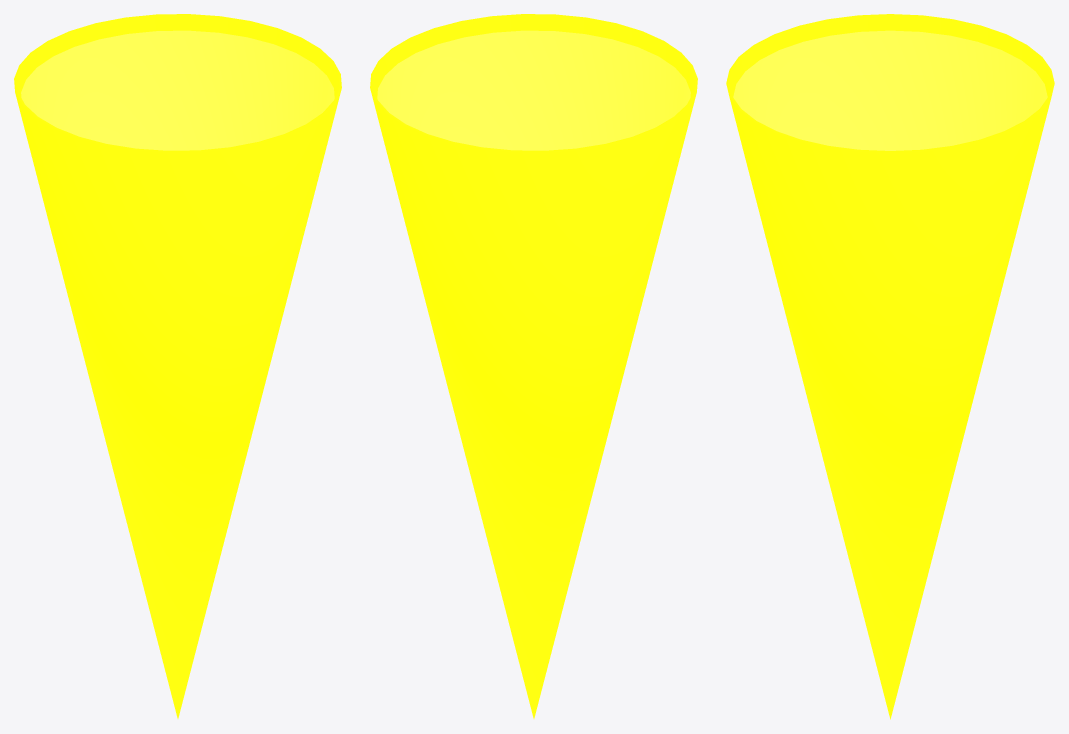
Rendered from ConeLumiere5.glb.
The picture shows the model from 3 angles, left to right: view 1: azimuth 30°, elevation 25°; view 2: azimuth 150°, elevation 25°; view 3: azimuth 270°, elevation 25°; orthographic projection.
Visible parts, largest first — view 1: Cone.001, Cone; view 2: Cone.001, Cone; view 3: Cone.001, Cone.
Boxes of the visible parts, bbox=[...] form: Cone.001: bbox=[14, 14, 341, 718]; Cone: bbox=[21, 30, 334, 150]; Cone.001: bbox=[370, 14, 697, 718]; Cone: bbox=[377, 30, 690, 150]; Cone.001: bbox=[726, 14, 1054, 719]; Cone: bbox=[733, 30, 1047, 150].
Size of the model in its own units: 4.73 by 10.11 by 4.73.
2 materials, 2 textured.
